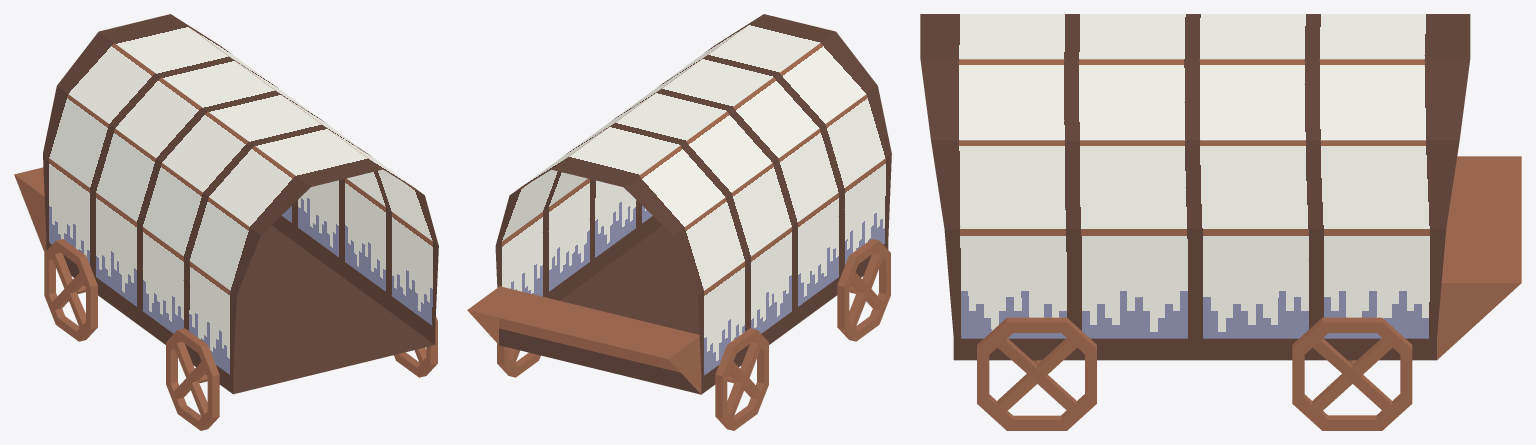
The model's file is round_carriage.glb.
The picture shows the model from 3 angles, left to right: view 1: azimuth 30°, elevation 25°; view 2: azimuth 150°, elevation 25°; view 3: azimuth 270°, elevation 25°; orthographic projection. The views are drawn at different scales.
Parts seen in each view (by area): view 1: Cube; view 2: Cube; view 3: Cube.
Boxes of the visible parts, box(x1,y1,x2,y2) form: Cube: box(14, 14, 438, 430); Cube: box(467, 14, 891, 430); Cube: box(920, 14, 1521, 430).
Bounding box in the file's own units: 2.8 × 2.95 × 4.98.
1 material, 1 textured.
